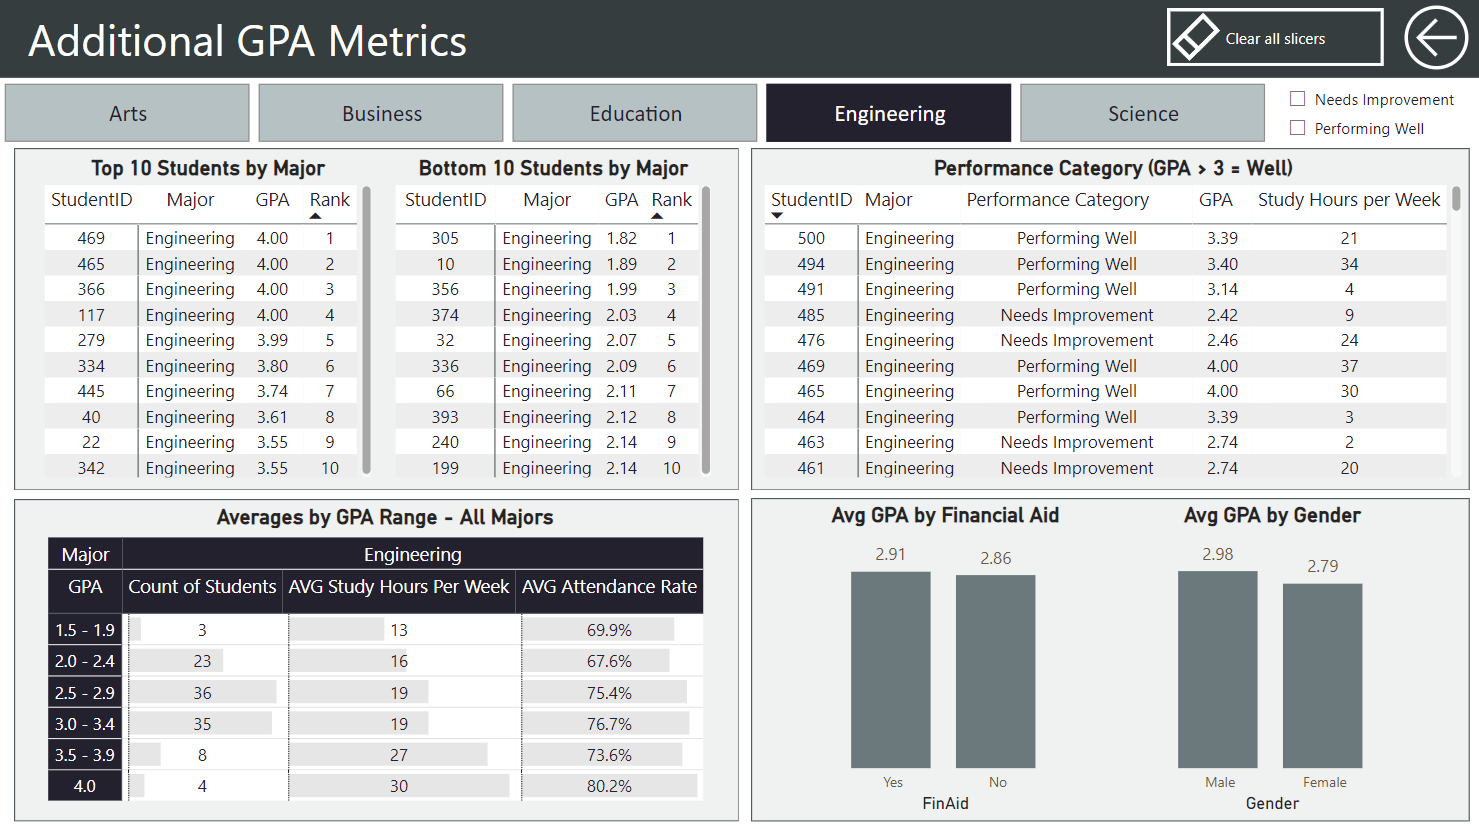

What the dashboard file says about the page in this screenshot:
{"tool":"powerbi","page":{"name":"GPA","canvas":[1280,720],"ordinal":2},"visuals":[{"type":"shape","box":[14.5,130,625.5,295.5],"z":0},{"type":"shape","box":[650,431.8,620,279.1],"z":1000},{"type":"shape","box":[14.5,432.7,625.5,278.2],"z":2000},{"type":"shape","box":[650,130,620,295.5],"z":3000},{"type":"shape","box":[0,0,1280,69.9],"z":4000},{"type":"textbox","box":[21.6,6,468.4,63.8],"z":5000},{"type":"actionButton","box":[1206.7,0,73.3,69.9],"z":6000},{"type":"pivotTable","title":"Performance Category (GPA > 3 = Well)","fields":{"Rows":["Student Performance Category.StudentID"],"Values":["Min(Student Performance Category.Major)","Min(Student Performance Category.PerformanceCategory)","Avg(Student Performance Category.GPA)","Sum(Student Performance Category.StudyHoursPerWeek)"]},"box":[657.3,136.4,610.9,282.7],"z":7000},{"type":"slicer","fields":{"Values":["Student Performance Category.PerformanceCategory"]},"box":[1102.7,70,167.3,60],"z":8000},{"type":"pivotTable","title":"Top 10 Students by Major","fields":{"Rows":["Top 10 Students per Major.StudentID"],"Values":["Min(Top 10 Students per Major.Major)","Avg(Top 10 Students per Major.GPA)","Sum(Top 10 Students per Major.TopRank)"]},"box":[36.4,136.4,291.8,282.7],"z":9000},{"type":"pivotTable","title":"Bottom 10 Students by Major","fields":{"Rows":["Bottom 10 Students per Major.StudentID"],"Values":["Min(Bottom 10 Students per Major.Major)","Avg(Bottom 10 Students per Major.GPA)","Sum(Bottom 10 Students per Major.BottomRank)"]},"box":[339.1,136.4,281.8,282.7],"z":10000},{"type":"pivotTable","title":"Averages by GPA Range - All Majors","fields":{"Rows":["Query1.GPA_Rating"],"Values":["Sum(Query1.Count_Students)","Sum(Query1.Avg_StudyHoursPerWeek)","Avg(Query1.Avg_AttendanceRate)"],"Columns":["Query1.Major"]},"box":[24.5,431.8,606.4,279.1],"z":11000},{"type":"advancedSlicerVisual","fields":{"Values":["General AVGs.Major"]},"box":[1.7,70.1,1101.1,60],"z":12000},{"type":"columnChart","title":"Avg GPA by Financial Aid","fields":{"Category":["Query1.FinAid"],"Y":["Avg(Query1.Avg_GPA)"]},"box":[650.2,432.3,335.3,272.2],"z":13000},{"type":"columnChart","title":"Avg GPA by Gender","fields":{"Category":["Query1.Gender"],"Y":["Avg(Query1.Avg_GPA)"]},"box":[933.1,431.4,335.3,272.2],"z":14000},{"type":"actionButton","box":[1009.1,9.9,187.2,50.4],"z":15000}]}

Visuals, with their boxes in screenshot pixels (x1, y1, x2, y2), scaled from the page's 1280x720 canvas onto the 1479x829 screenshot:
shape: detection(17, 150, 740, 490)
shape: detection(751, 497, 1467, 819)
shape: detection(17, 498, 740, 819)
shape: detection(751, 150, 1467, 490)
shape: detection(0, 0, 1478, 80)
textbox: detection(25, 7, 566, 80)
actionButton: detection(1394, 0, 1478, 80)
"Performance Category (GPA > 3 = Well)" pivotTable: detection(759, 157, 1465, 483)
slicer - Student Performance Category.PerformanceCategory: detection(1274, 81, 1467, 150)
"Top 10 Students by Major" pivotTable: detection(42, 157, 379, 483)
"Bottom 10 Students by Major" pivotTable: detection(392, 157, 717, 483)
"Averages by GPA Range - All Majors" pivotTable: detection(28, 497, 729, 819)
advancedSlicerVisual - General AVGs.Major: detection(2, 81, 1274, 150)
"Avg GPA by Financial Aid" columnChart: detection(751, 498, 1139, 811)
"Avg GPA by Gender" columnChart: detection(1078, 497, 1466, 810)
actionButton: detection(1166, 11, 1382, 69)
